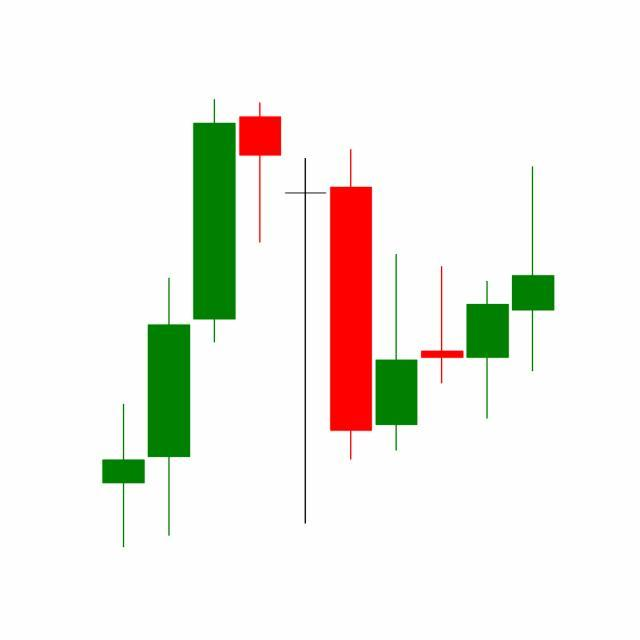Hikkake Pattern: (283, 145, 512, 528)
